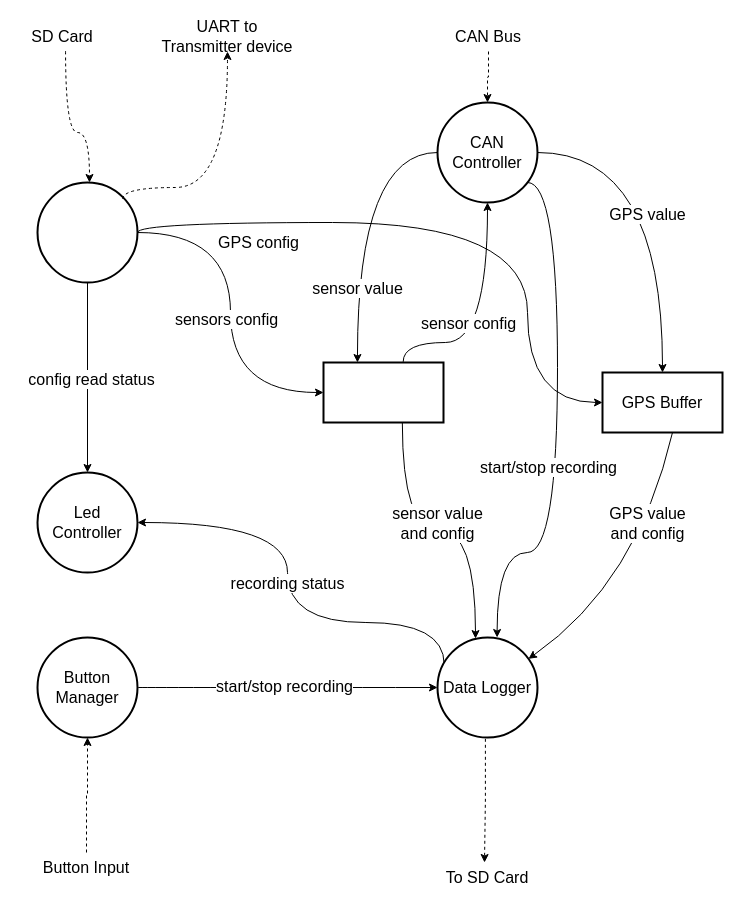
This 740x909 diagram has some shape labels left out. Each missing label, with the box of its shape:
Config Read: (36, 181, 138, 283)
Sensor Buffer: (322, 361, 444, 423)
